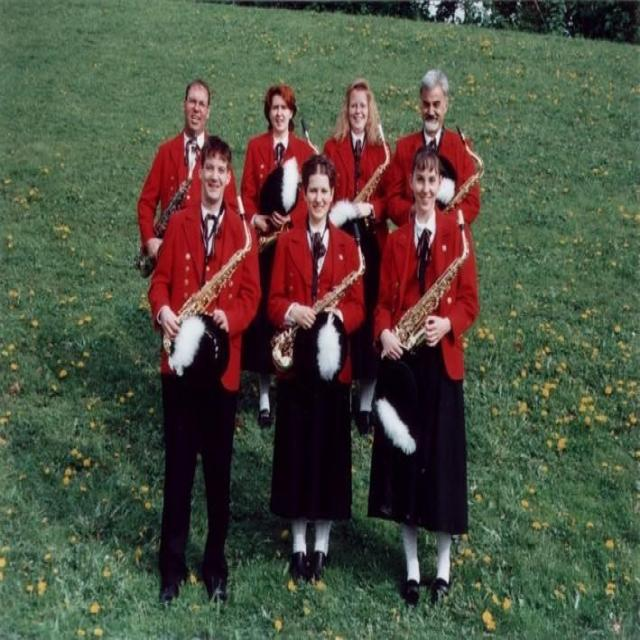saxophone: (163, 190, 251, 368), (272, 218, 366, 372), (388, 208, 472, 351), (137, 159, 202, 276), (444, 126, 488, 210), (351, 121, 391, 212)
